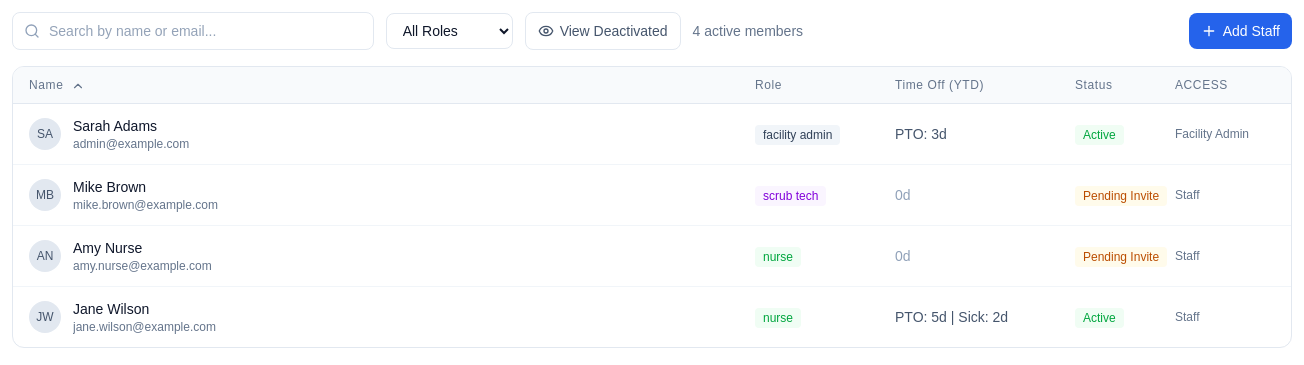
Test case: StaffDirectoryTab › workflow: combined filters and sort › search + role filter work together
// Filter to nurses only
Select "nurse" in the dropdown showing "All Roles": (449, 31) [386, 13, 513, 49]
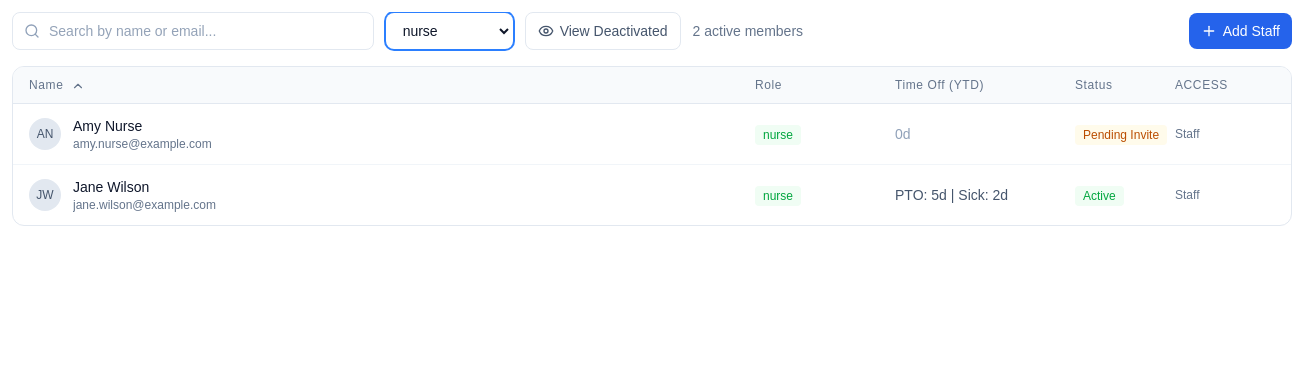
// Then search within nurses
In the field with placeholder "Search by name or email...": (193, 31) [12, 12, 374, 50], type "Jane"
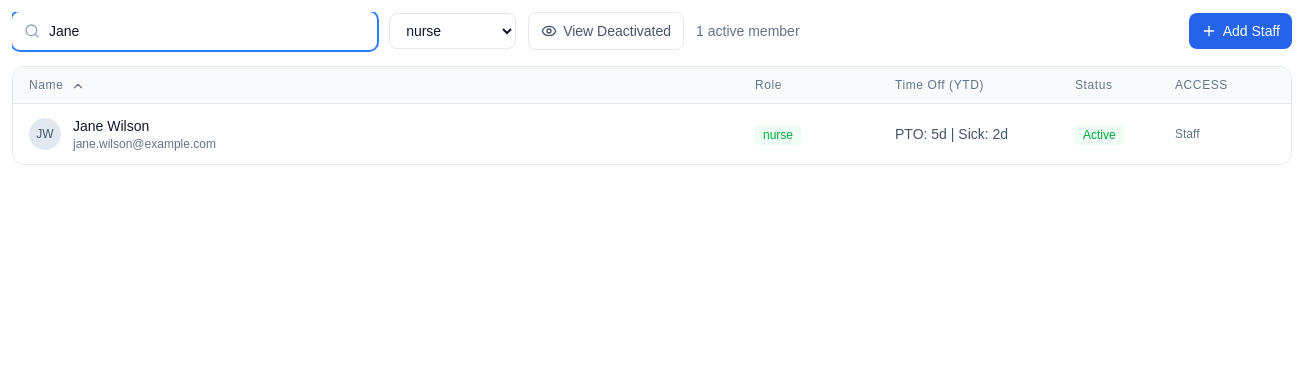
Check: the text "Jane Wilson" is shown, box [73, 118, 149, 134]
Check: the text "Amy Nurse" is gone
Check: the text "1 active member" is shown, box [696, 21, 800, 41]
